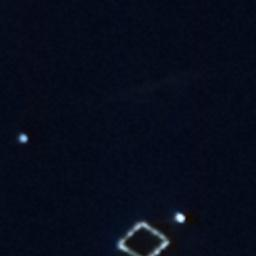square_solid: (112, 218, 174, 256)
